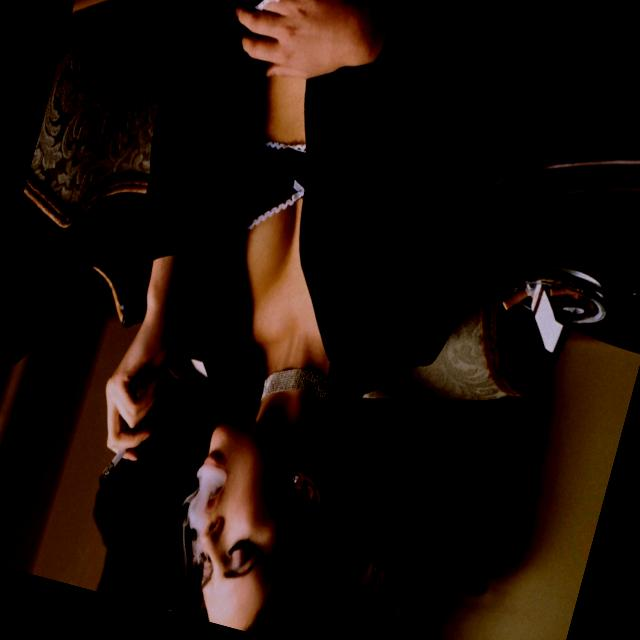cigarette: (88, 429, 138, 494)
